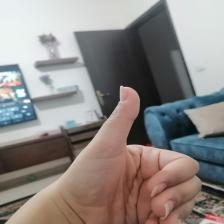five: (90, 85, 200, 224)
